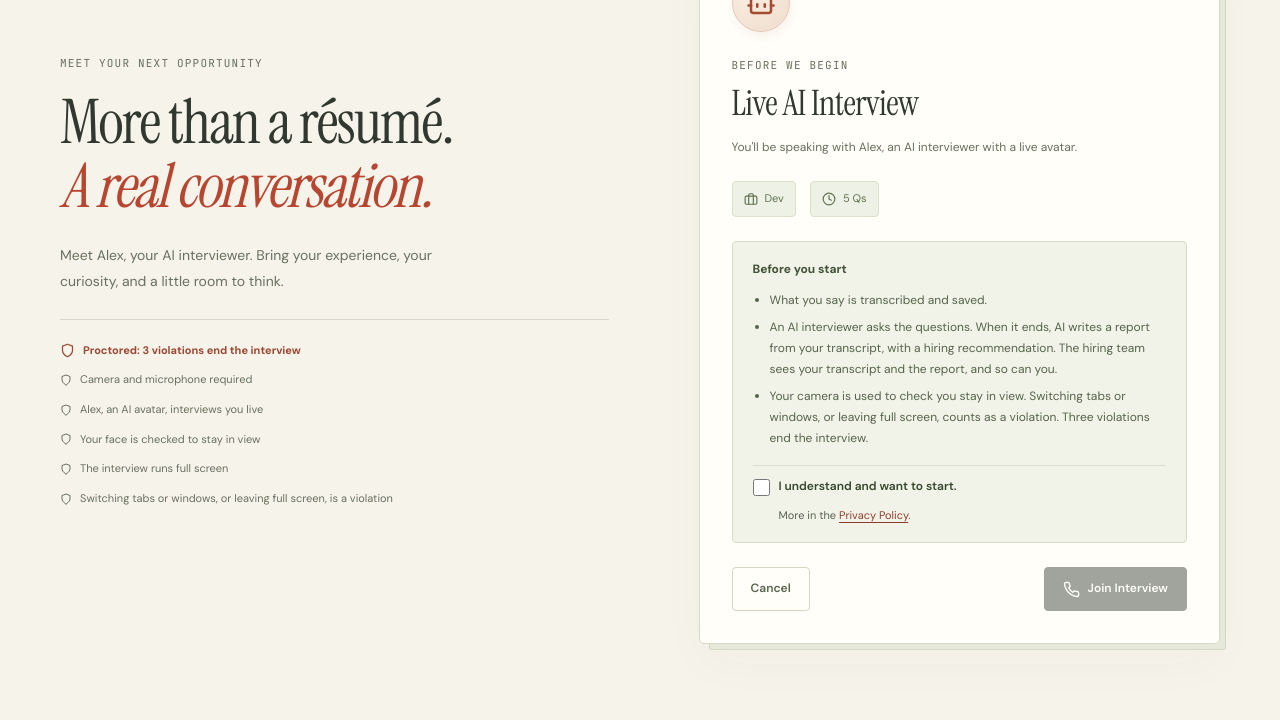
Scenario: the video interview › tells the server the candidate agreed, and shows the server's reason for a refusal
This screenshot has width=1280, height=720.
(page scrolled)
Click the checkbox labelled "I understand and want to start.".
click(761, 487)  # box [752,479,770,496]
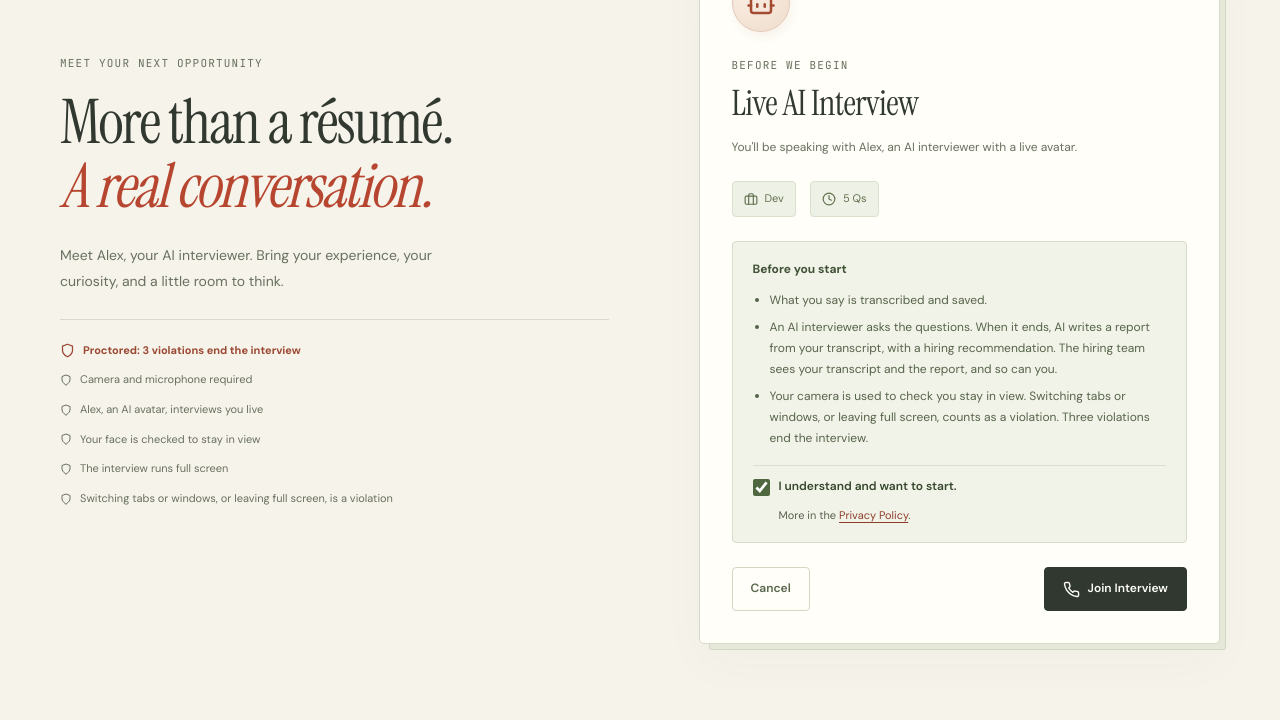
Click the button "Join Interview".
click(1115, 589)  # box [1044,568,1187,611]
(page scrolled)
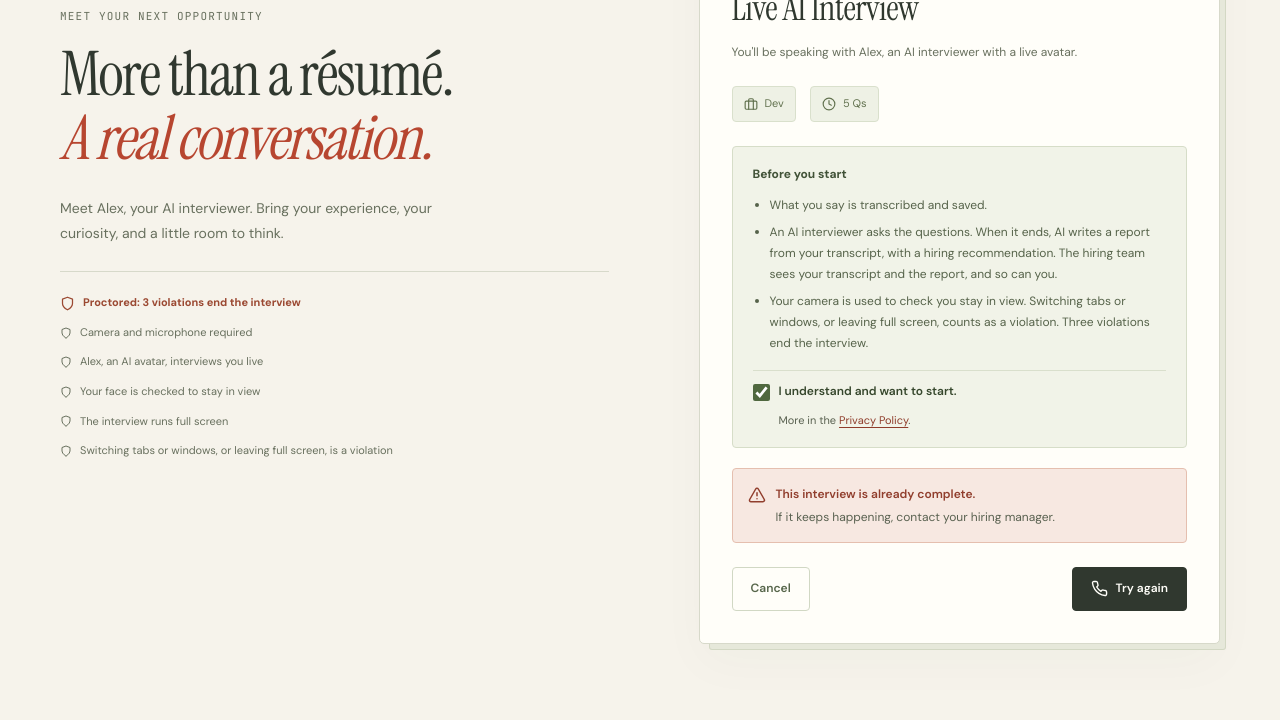
Check: the text "This interview is already complete." is shown, box [776,486,975,502]
